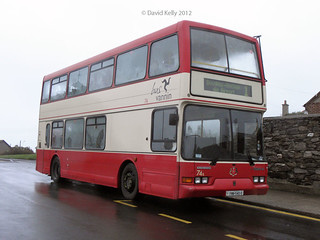bus: (35, 19, 269, 201)
